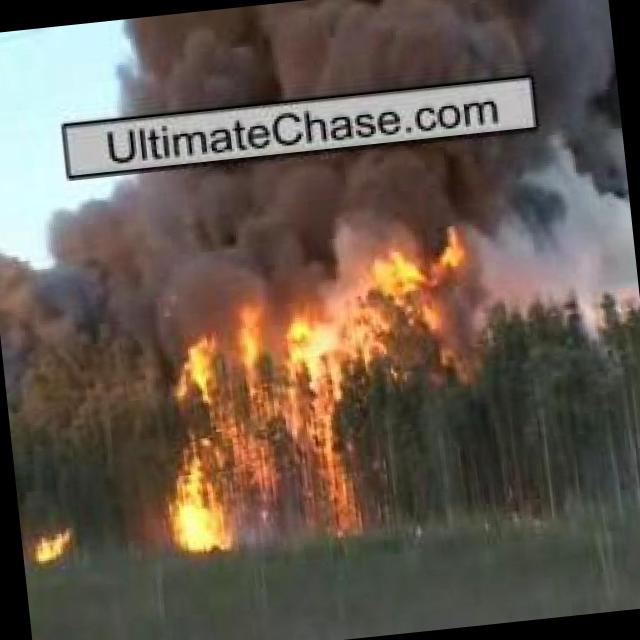Fire: (153, 306, 358, 568), (362, 234, 490, 368), (32, 514, 81, 566)
Smoke: (0, 124, 640, 425), (108, 0, 615, 117)
